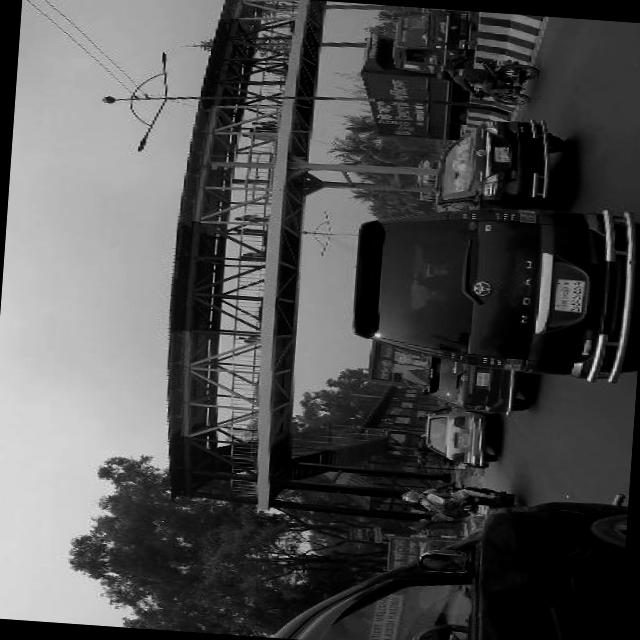bus: (354, 338, 430, 392), (407, 158, 448, 204)
car: (425, 112, 569, 218), (417, 354, 535, 417), (414, 406, 502, 467)
motorcycle: (470, 57, 540, 106), (450, 484, 520, 524), (434, 452, 492, 472)
truck: (260, 469, 627, 640), (343, 192, 640, 382), (354, 7, 470, 144)
